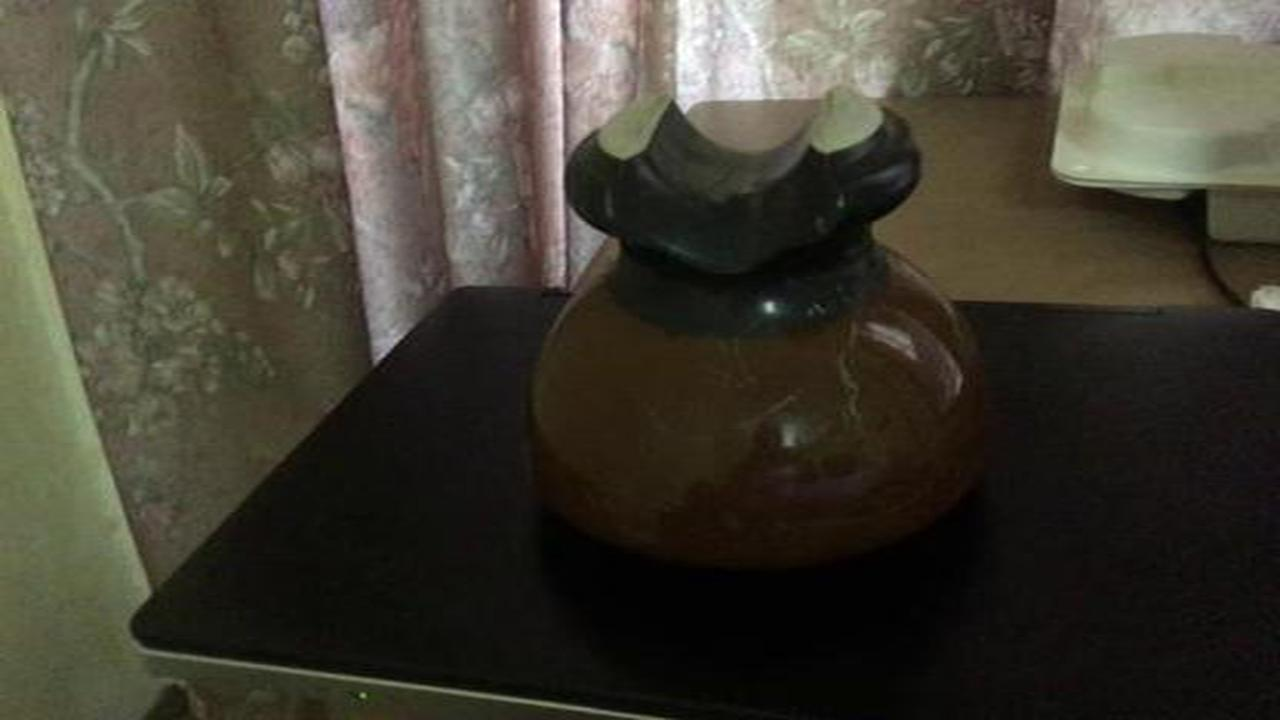insulator_pin: (496, 65, 1028, 598)
